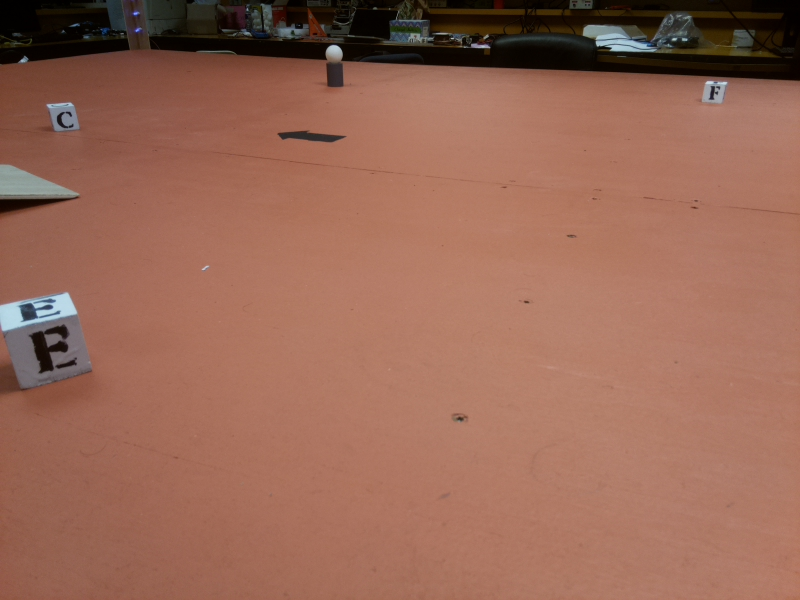blockC: (45, 104, 83, 134)
blockE: (1, 292, 96, 394)
blockF: (698, 81, 729, 106)
obstacle: (324, 43, 347, 90)
slope: (1, 161, 82, 210)
start: (275, 127, 348, 144)
